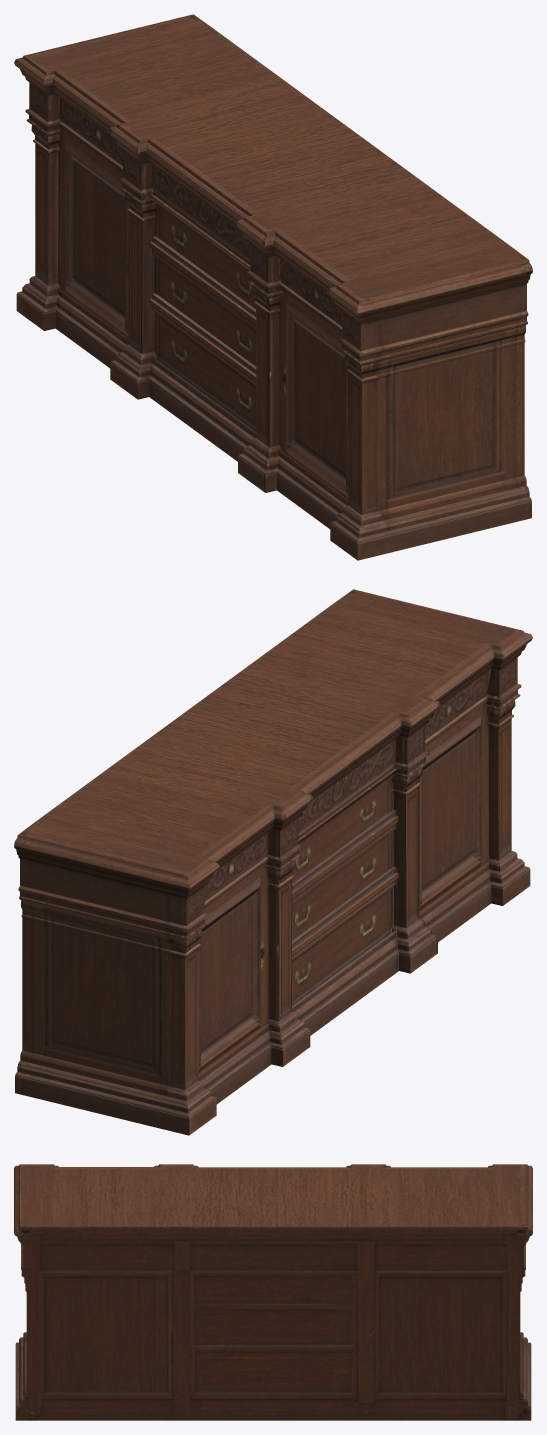
File: Sideboard.fbx
3 views of the same model, one above another, from view 1: azimuth 30°, elevation 25°; view 2: azimuth 150°, elevation 25°; view 3: azimuth 270°, elevation 25° (orthographic). The views are drawn at different scales.
Parts seen in each view (by area): view 1: Sideboard_Low; view 2: Sideboard_Low; view 3: Sideboard_Low.
Part boxes in pixels (x1,y1,x2,y2): Sideboard_Low: (14,14,532,560); Sideboard_Low: (14,589,532,1135); Sideboard_Low: (14,1164,532,1420).
Bounding box in the file's own units: 0.5745 × 0.8028 × 1.94.
